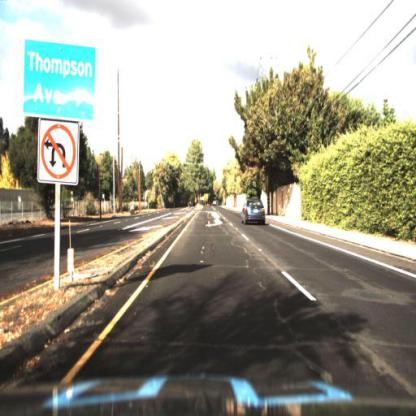car: (241, 197, 268, 226)
